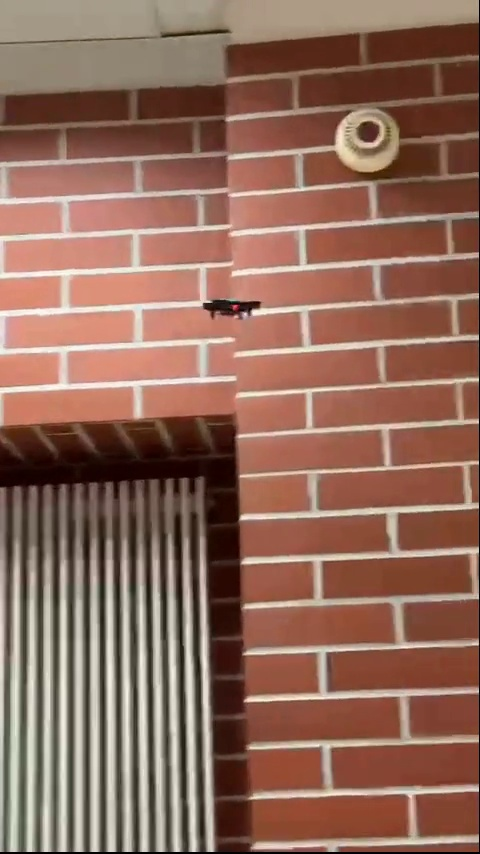drone: (203, 294, 263, 315)
